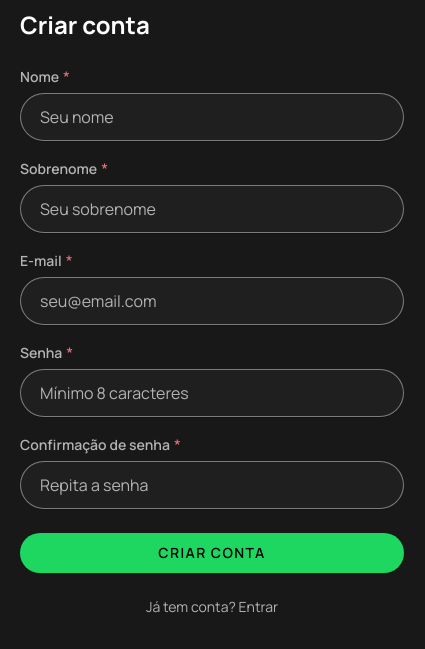
it: RegisterForm › shows generic error on unexpected failure
Type "João" into the field labelled "Nome".
click(212, 117); type("João")  # box 20,93 -> 404,141
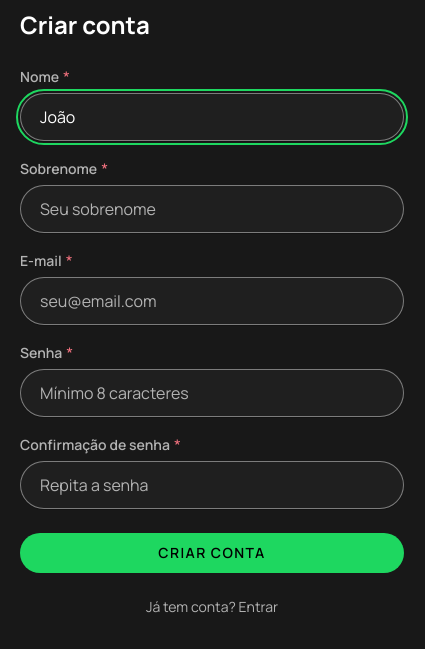
Type "Silva" into the field labelled "Sobrenome".
click(212, 209); type("Silva")  # box 20,185 -> 404,233
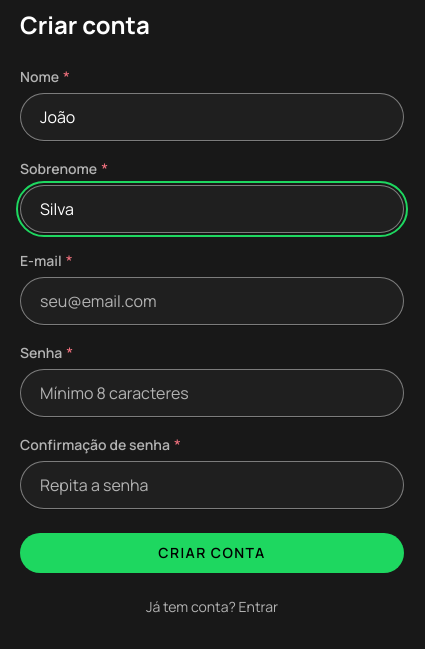
Type "joao@example.com" into the field labelled "E-mail".
click(212, 301); type("joao@example.com")  # box 20,277 -> 404,325
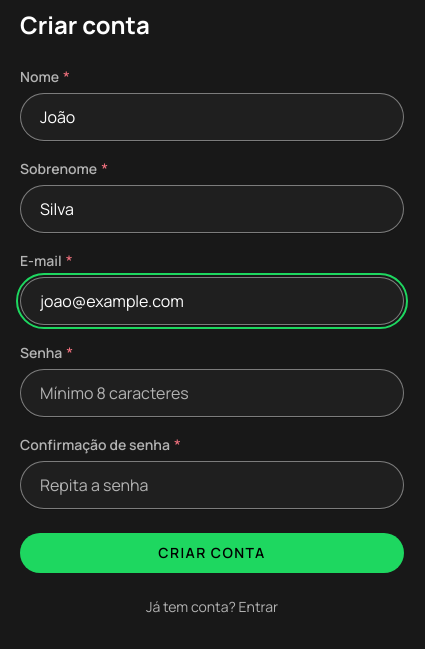
Type "senha123" into the password field labelled "Senha".
click(212, 393); type("senha123")  # box 20,369 -> 404,417
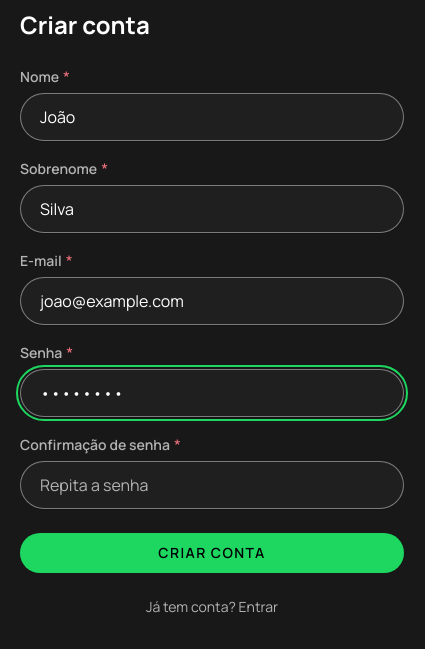
Type "senha123" into the password field labelled "Confirmação de senha".
click(212, 485); type("senha123")  # box 20,461 -> 404,509
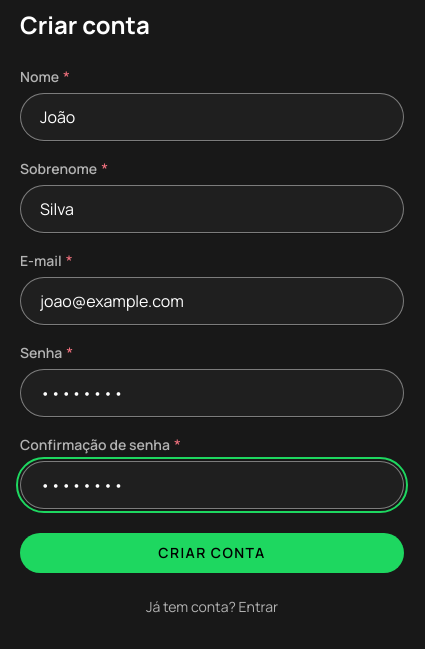
Click the button "Criar conta".
click(212, 553)  # box 20,533 -> 404,573
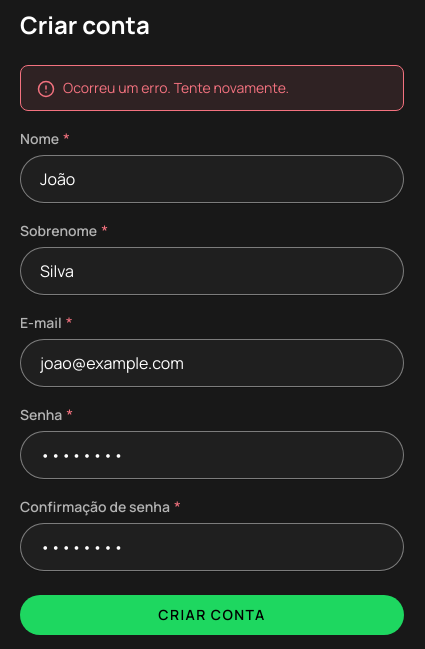
Expected: the text "Ocorreu um erro. Tente novamente." is shown, 63,78 -> 289,97
